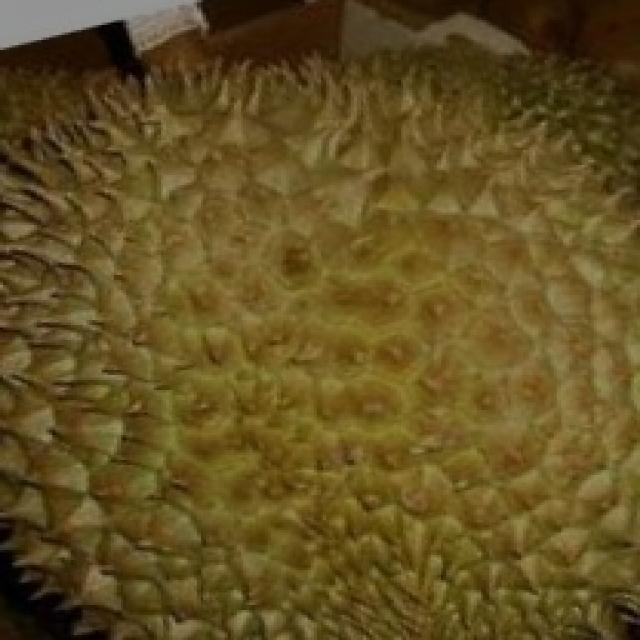fruit: (0, 10, 338, 417), (3, 287, 369, 640)
